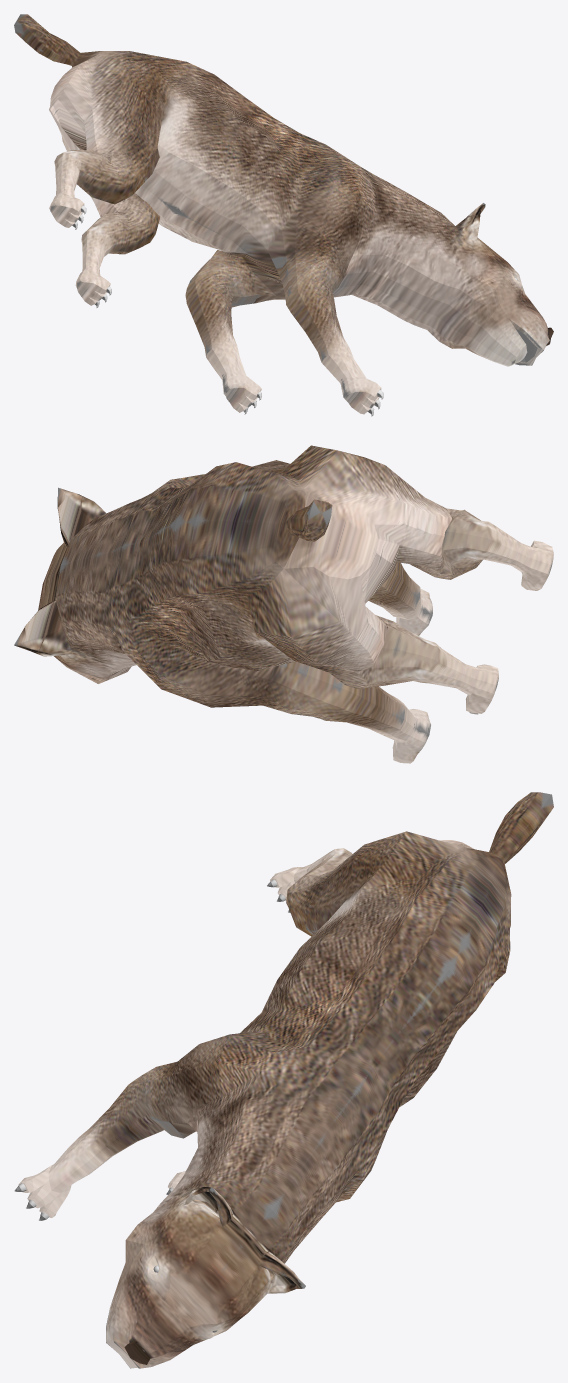
The model's file is hemicyon.glb.
3 renders of one model, top to bottom at view 1: azimuth 30°, elevation 25°; view 2: azimuth 150°, elevation 25°; view 3: azimuth 270°, elevation 25°, orthographic. The views are drawn at different scales.
Parts seen in each view (by area): view 1: hemicyon; view 2: hemicyon; view 3: hemicyon.
Part boxes in pixels (x1,y1,x2,y2): hemicyon: (14,14,553,416); hemicyon: (14,445,553,763); hemicyon: (14,792,553,1368).
Size of the model in its own units: 993 by 691 by 885.
4 materials, 1 textured.
